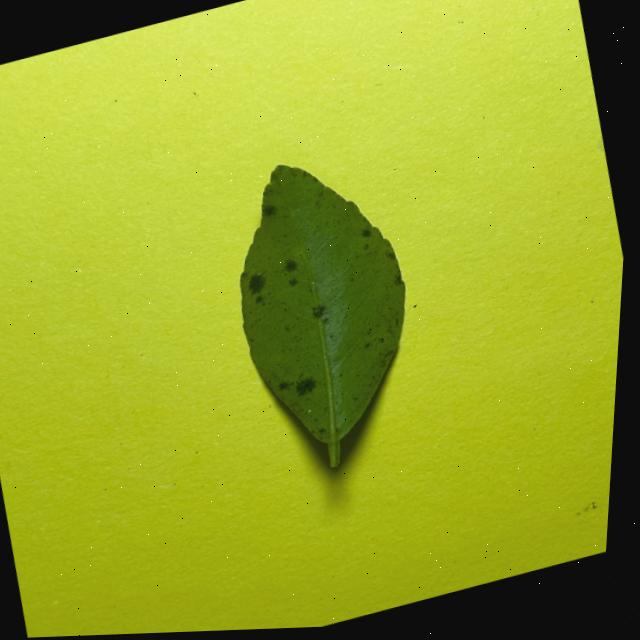sooty_mold: (239, 165, 405, 466)
